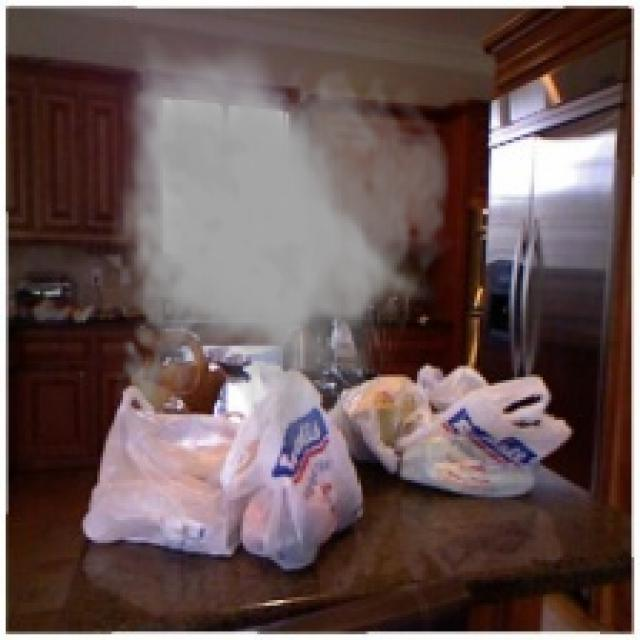Smoke: (112, 34, 454, 454)
